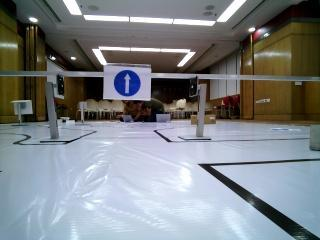straight: (103, 65, 150, 99)
